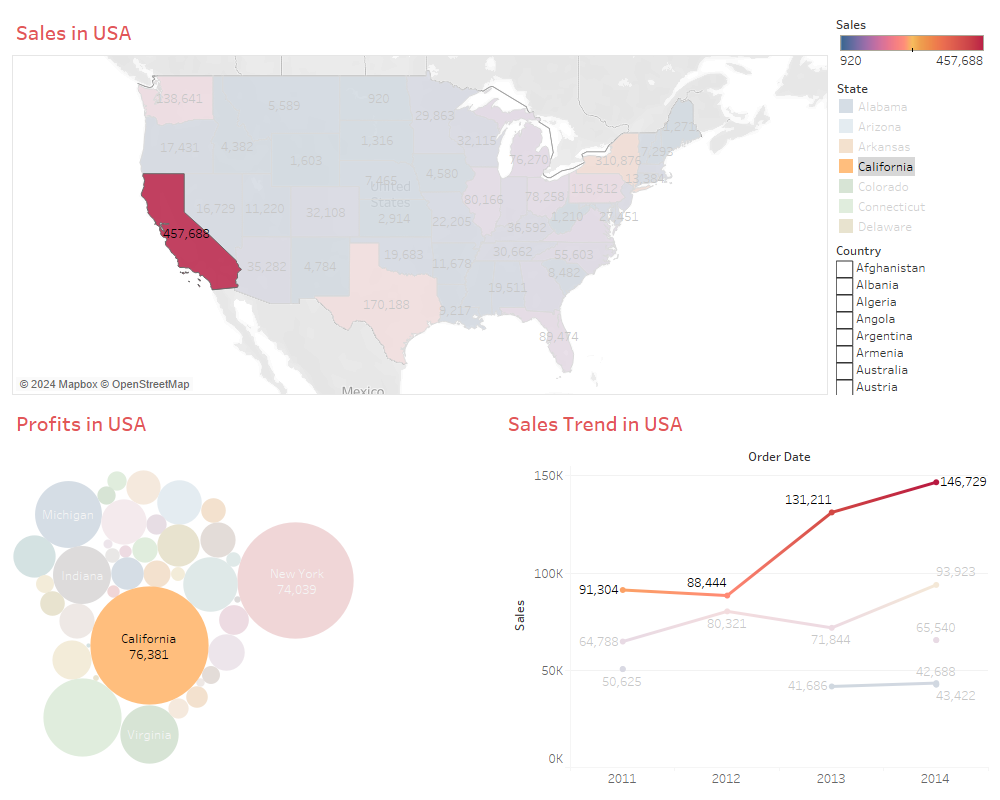

What the dashboard file says about the page in this screenshot:
{"tool":"tableau","page":{"name":"Dashboard 1","canvas":[1000,800],"ordinal":0},"visuals":[{"type":"worksheet","title":"Sheet 1","mark":"Automatic","box":[8,8,824,391.2]},{"type":"legend","title":"Sheet 1","param":"[federated.1losjlt0e2nymr18e612j1wb6gzc].[sum:Sales:qk]","box":[832,8,160,65]},{"type":"legend","title":"Sheet 2","param":"[federated.1losjlt0e2nymr18e612j1wb6gzc].[none:State:nk]","box":[832,73,160,163.1]},{"type":"filter","title":"Sheet 3","param":"[federated.1losjlt0e2nymr18e612j1wb6gzc].[none:Country:nk]","box":[832,236.1,160,163.1]},{"type":"worksheet","title":"Sheet 2","mark":"Circle","box":[8,399.2,492,392.8]},{"type":"worksheet","title":"Sheet 3","mark":"Line","rows":["Sales"],"cols":["Order Date"],"box":[500,399.2,492,392.8]}]}

Visuals, with their boxes in screenshot pixels (x1, y1, x2, y2), scaled from the page's 1000x800 canvas onto the 1000x800 screenshot:
"Sheet 1" worksheet: region(8, 8, 832, 399)
"Sheet 1" legend: region(832, 8, 992, 73)
"Sheet 2" legend: region(832, 73, 992, 236)
"Sheet 3" filter: region(832, 236, 992, 399)
"Sheet 2" worksheet (Circle marks): region(8, 399, 500, 792)
"Sheet 3" worksheet (Line marks): region(500, 399, 992, 792)
